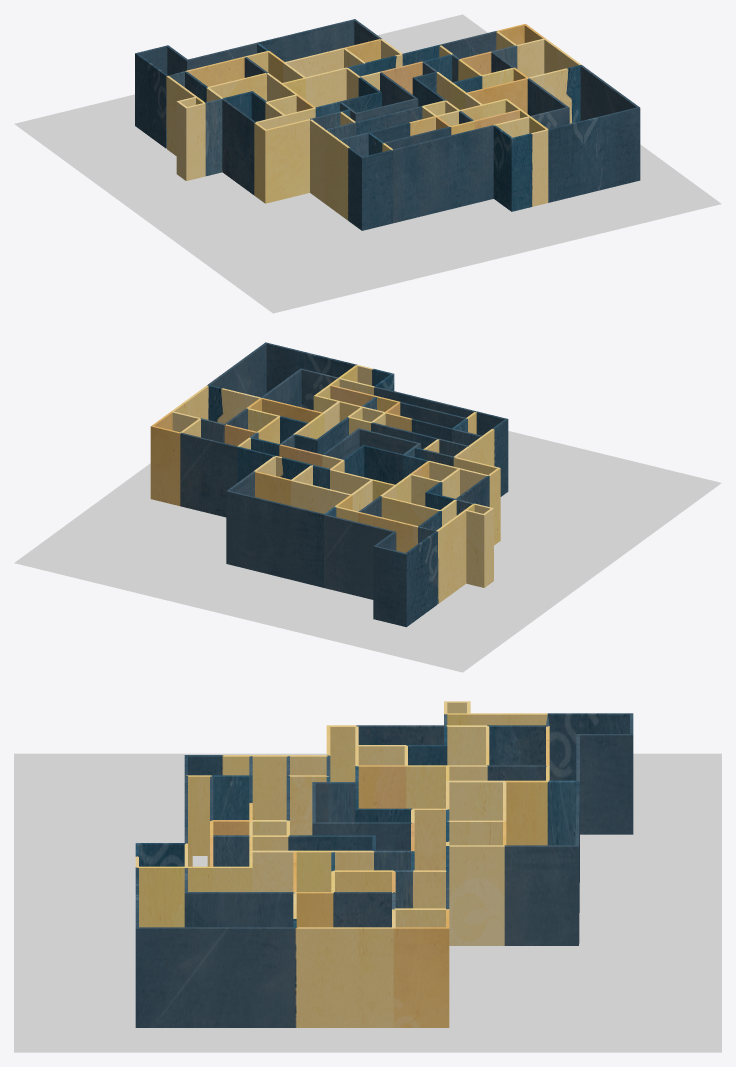
Rendered from MapTextureTest2.fbx.
The picture shows the model from 3 angles, top to bottom: view 1: azimuth 30°, elevation 25°; view 2: azimuth 150°, elevation 25°; view 3: azimuth 270°, elevation 25°; orthographic projection. The views are drawn at different scales.
Parts seen in each view (by area): view 1: Walls, Floor; view 2: Walls, Floor; view 3: Walls, Floor.
Part boxes in pixels (x1,y1,x2,y2): Walls: (135, 19, 640, 230); Floor: (14, 14, 721, 313); Walls: (150, 342, 508, 627); Floor: (14, 431, 721, 672); Walls: (135, 701, 633, 1027); Floor: (14, 753, 721, 1052).
Bounding box in the file's own units: 6330 × 1056 × 6330.
